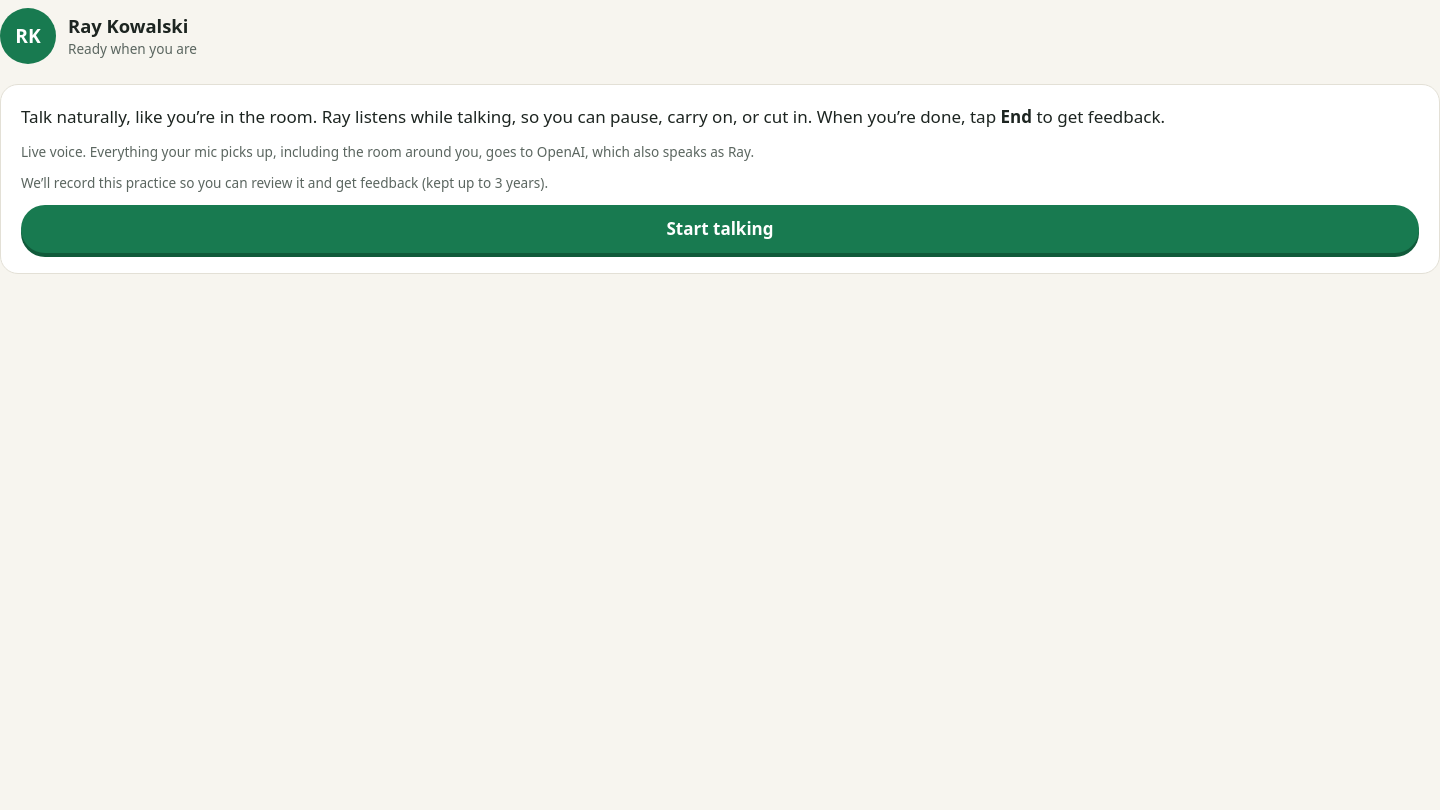
it: GPT-Live conversation › saves what Ray actually said out loud once he’s done, not the planned line
The image size is (1440, 810).
Click the button "Start talking".
click(720, 229)  # box 21,205 -> 1419,253
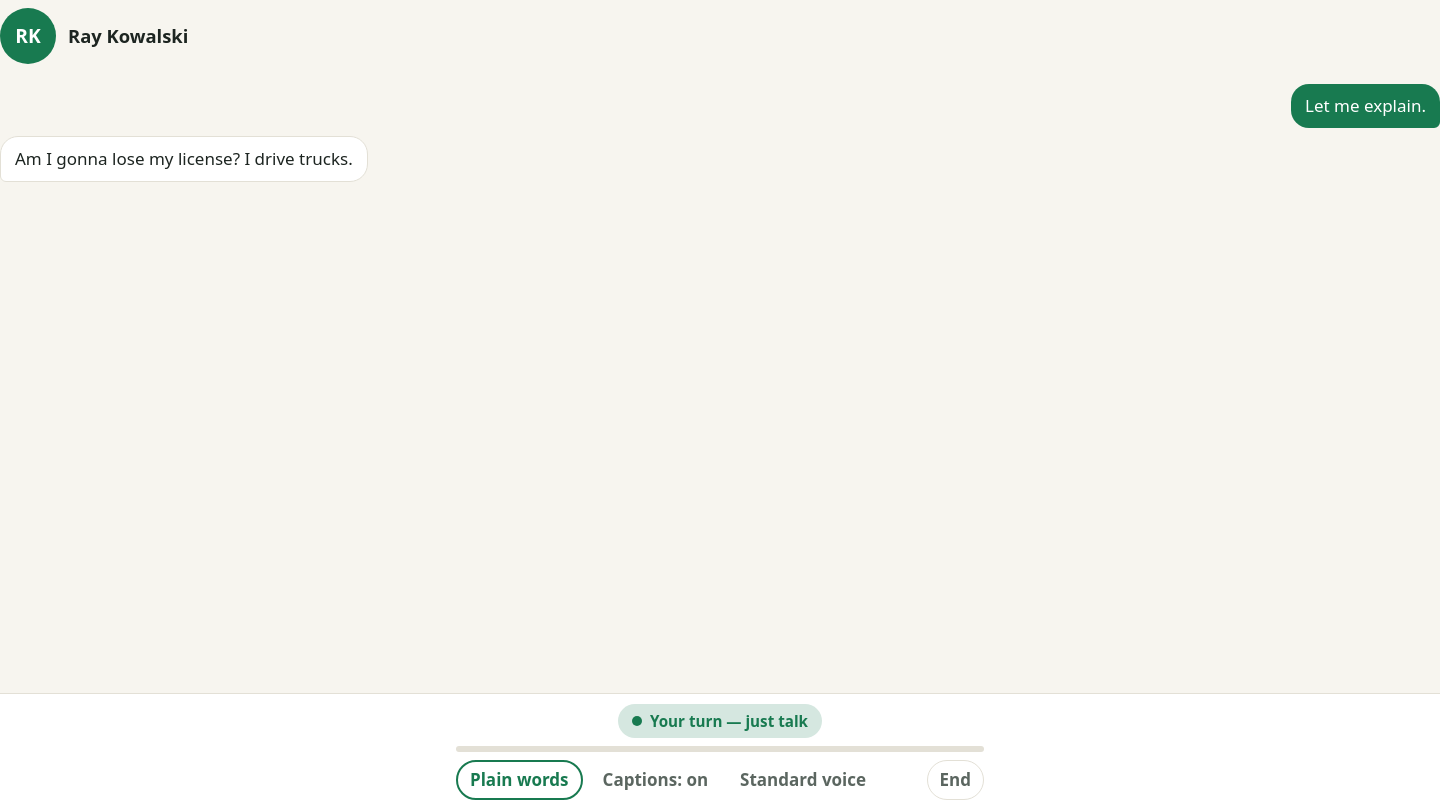
Result: the text "Am I gonna lose my license? I drive trucks." is shown at 0,136 -> 368,182
